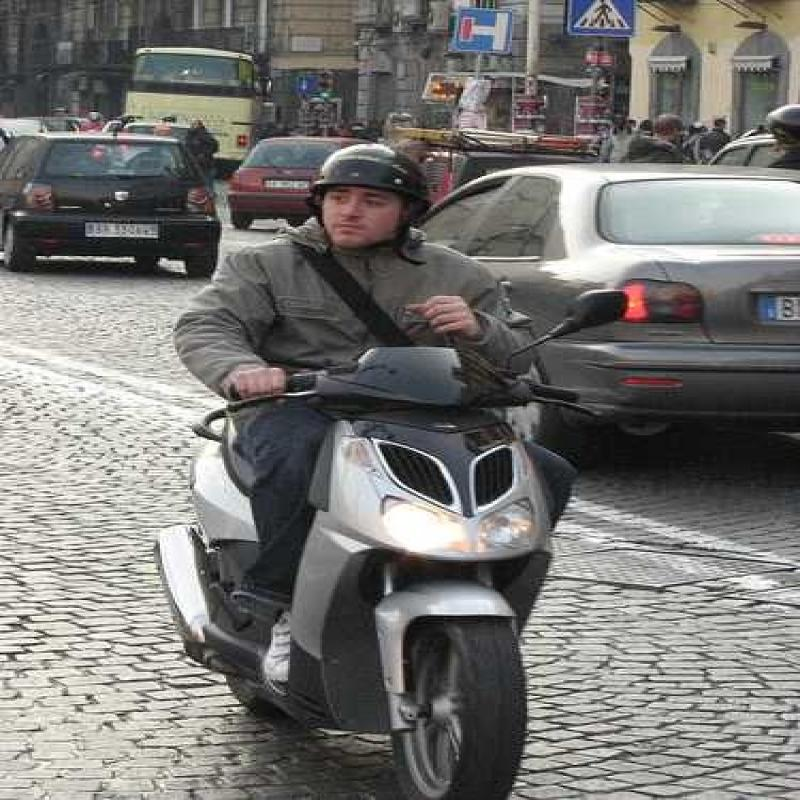bike: (245, 301, 588, 800)
